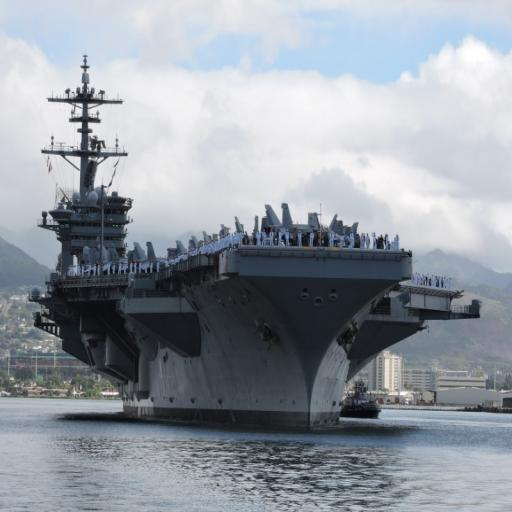Portanaves: (29, 48, 490, 452)
